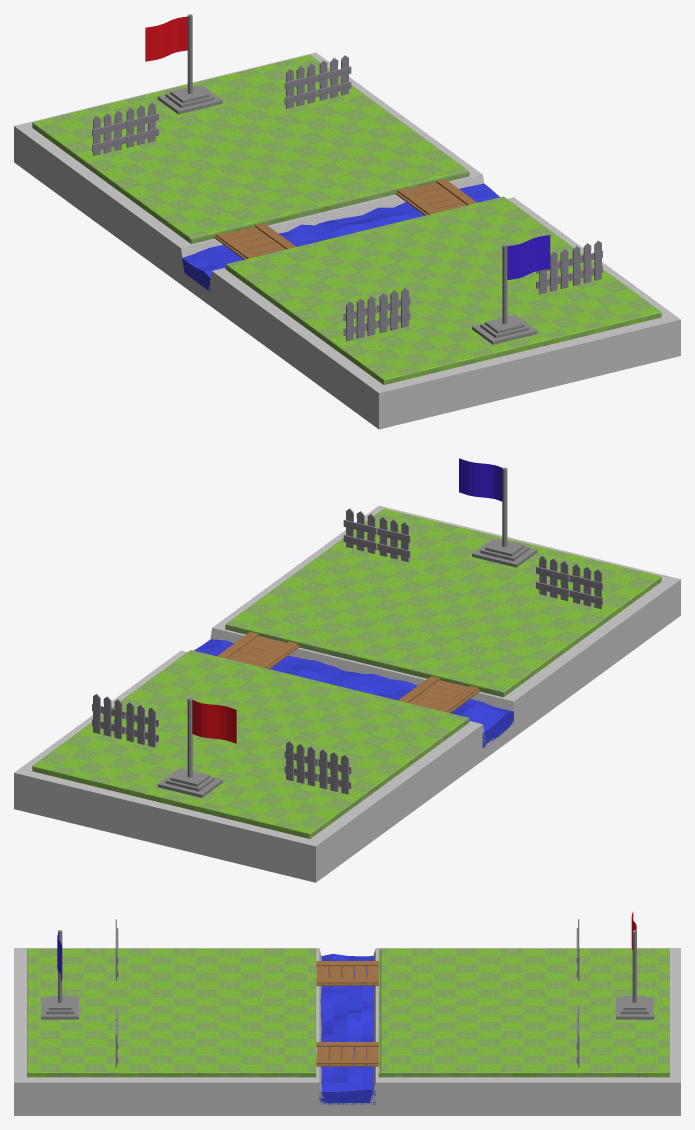
Rendered from new map1.fbx.
The picture shows the model from 3 angles, top to bottom: view 1: azimuth 30°, elevation 25°; view 2: azimuth 150°, elevation 25°; view 3: azimuth 270°, elevation 25°; orthographic projection. The views are drawn at different scales.
Visible parts, largest first — view 1: Plane.002, Plane.001, Plane.011, Plane.005, Plane, Plane.006, Plane.012, Plane.007, Plane.008, Plane.074, Cylinder; view 2: Plane.002, Plane.001, Plane.011, Plane.005, Plane.006, Plane, Plane.012, Plane.008, Plane.007, Plane.074, Cylinder; view 3: Plane.002, Plane.001, Plane.005, Plane, Plane.012, Plane.006, Plane.074, Plane.011, Cylinder.
Part boxes in pixels (<box>): Plane.002: <box>32,54,661,384</box>; Plane.001: <box>14,52,680,429</box>; Plane.011: <box>92,55,602,341</box>; Plane.005: <box>181,183,499,291</box>; Plane: <box>52,138,469,370</box>; Plane.006: <box>157,85,537,344</box>; Plane.012: <box>214,182,466,259</box>; Plane.007: <box>507,235,550,279</box>; Plane.008: <box>145,16,187,61</box>; Plane.074: <box>216,178,477,258</box>; Cylinder: <box>187,14,507,324</box>; Plane.002: <box>32,508,661,838</box>; Plane.001: <box>14,505,680,882</box>; Plane.011: <box>92,508,602,794</box>; Plane.005: <box>194,639,513,747</box>; Plane.006: <box>157,538,537,797</box>; Plane: <box>191,592,642,823</box>; Plane.012: <box>227,635,480,713</box>; Plane.008: <box>192,700,236,743</box>; Plane.007: <box>459,458,502,501</box>; Plane.074: <box>217,632,478,712</box>; Cylinder: <box>187,467,507,777</box>; Plane.002: <box>27,948,669,1077</box>; Plane.001: <box>14,948,680,1115</box>; Plane.005: <box>319,954,375,1104</box>; Plane: <box>63,949,631,1077</box>; Plane.012: <box>316,966,378,1066</box>; Plane.006: <box>41,996,653,1019</box>; Plane.074: <box>316,961,378,1064</box>; Plane.011: <box>115,919,579,1067</box>; Cylinder: <box>58,930,636,1002</box>.
Bounding box in the file's own units: 542 × 221 × 1136.
